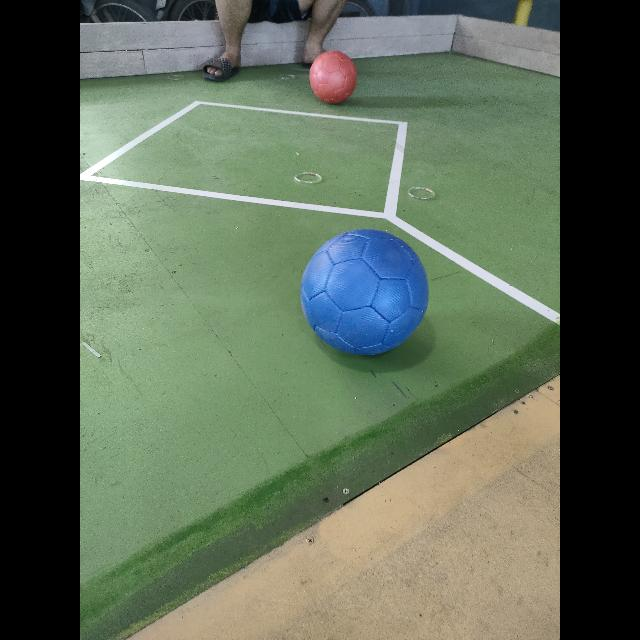B: (300, 230, 428, 354)
R: (309, 51, 356, 103)
